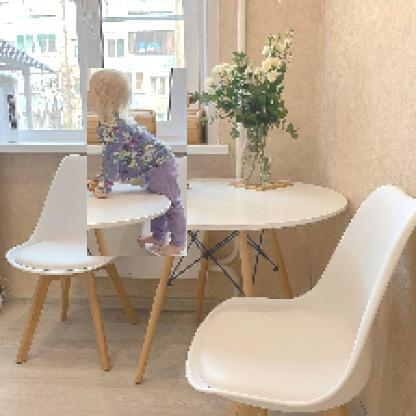child: (88, 69, 189, 258)
